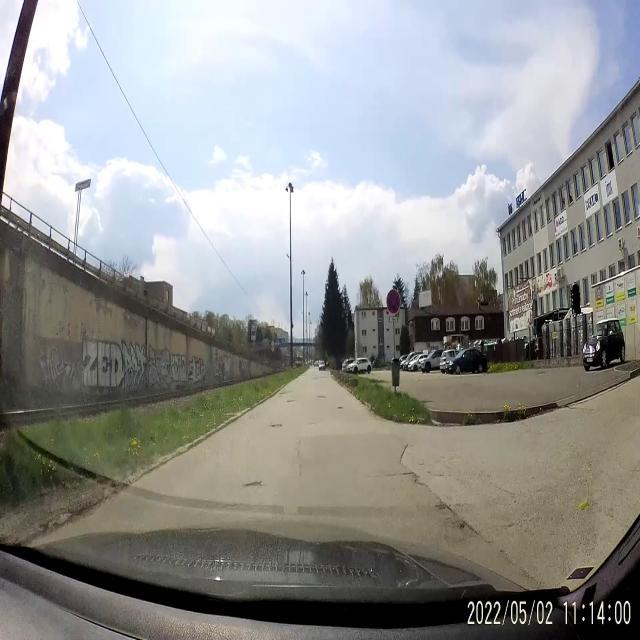Pothole: (382, 470, 430, 488), (440, 516, 472, 536), (242, 474, 266, 490), (269, 417, 283, 433), (432, 501, 450, 511), (314, 392, 328, 403), (336, 402, 346, 413), (284, 398, 299, 404), (278, 391, 292, 396)
